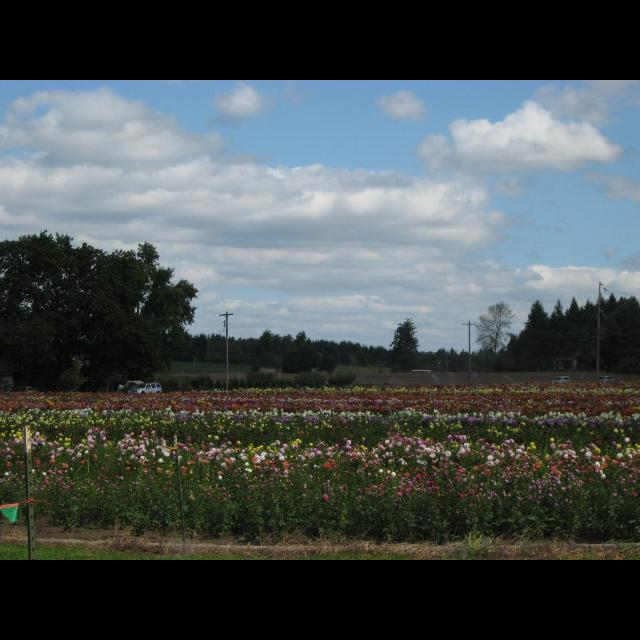Flower: (1, 383, 640, 505), (446, 448, 452, 458)
